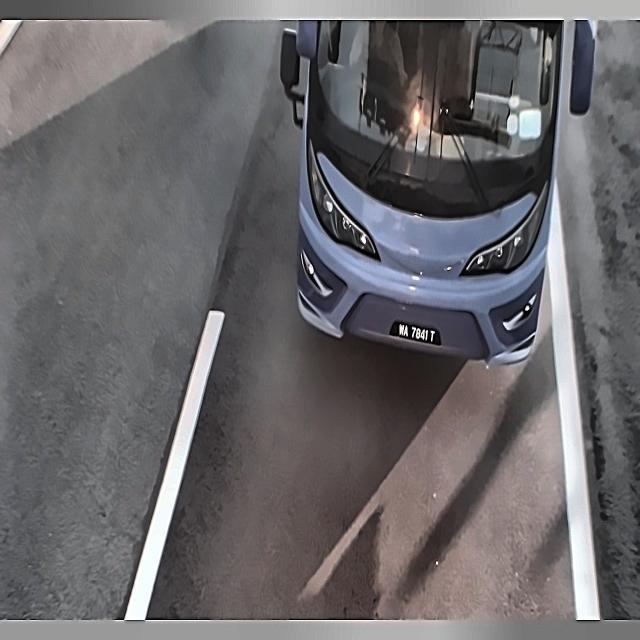car: (388, 312, 448, 352)
